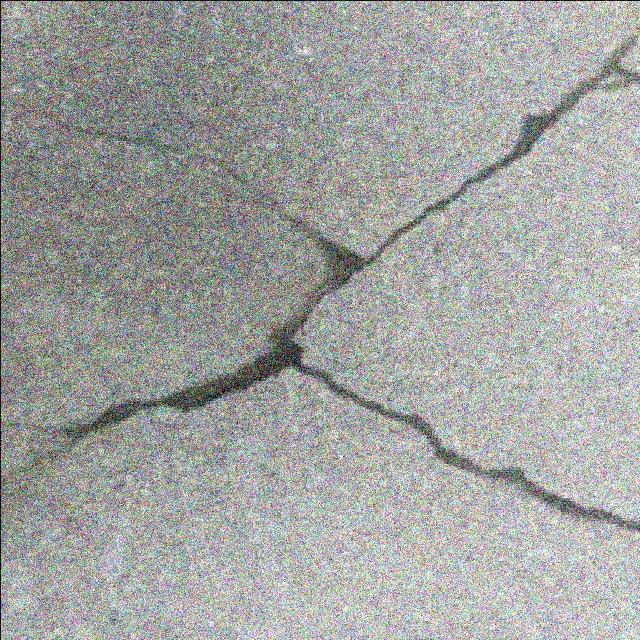SurfaceCrack: (6, 48, 640, 518)
